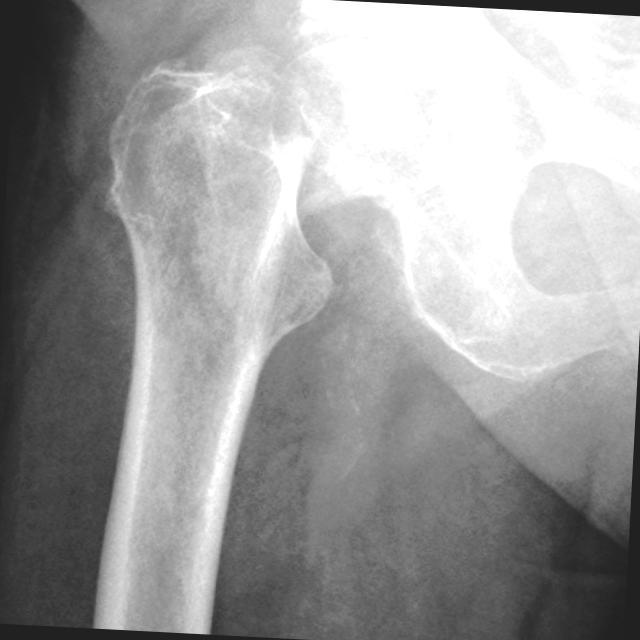Impact Fracture: (241, 44, 340, 226)
